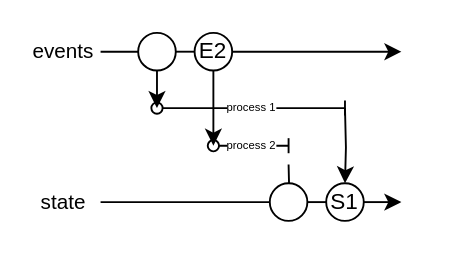
Image size: 449x269. Some labels were removed from this diagram. The centre of each missing label's shape, as x and y in pixels:
E1: point (156, 50)
S2: point (287, 201)
